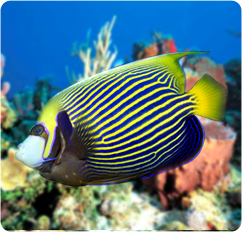Pomacanthus_imperator: (10, 49, 229, 192)
